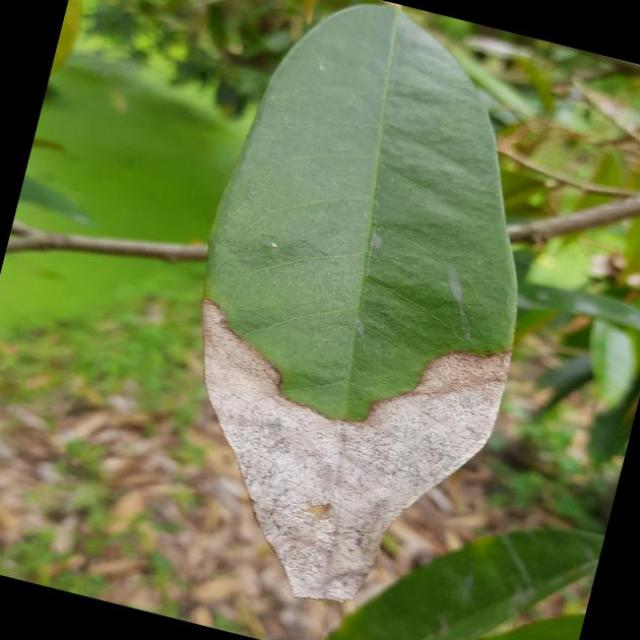Leaf Blight: (124, 0, 598, 640)
